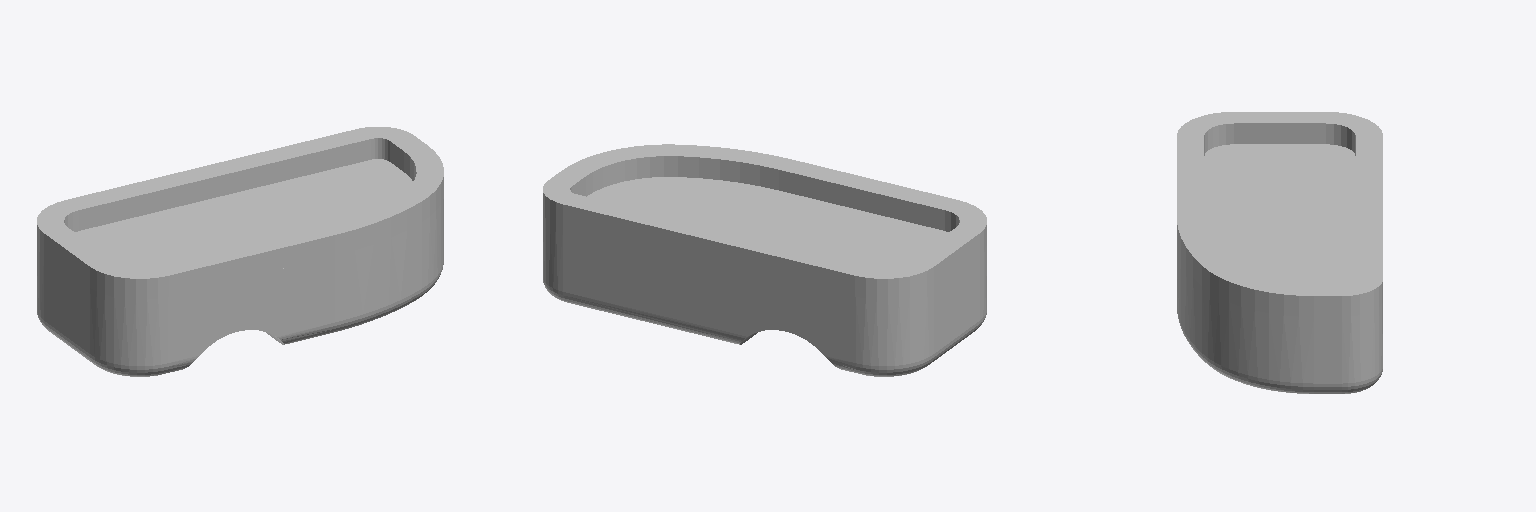
File: coman_foot_left.obj
3 views of the same model, side by side, from view 1: azimuth 30°, elevation 25°; view 2: azimuth 150°, elevation 25°; view 3: azimuth 270°, elevation 25° (orthographic).
Visible parts, largest first — view 1: ShapeIndexedFaceSet; view 2: ShapeIndexedFaceSet; view 3: ShapeIndexedFaceSet.
Part boxes in pixels (left/top/right/bottom): ShapeIndexedFaceSet: left=37, top=127, right=443, bottom=376; ShapeIndexedFaceSet: left=543, top=144, right=986, bottom=376; ShapeIndexedFaceSet: left=1177, top=112, right=1382, bottom=393.
Size of the model in its own units: 0.19 by 0.05 by 0.09.